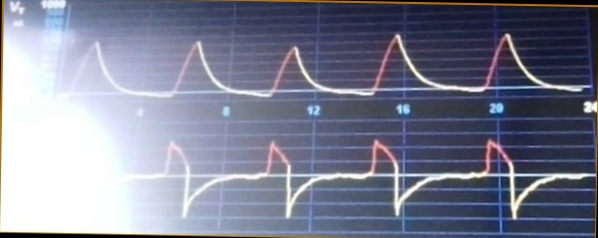Normal Flow: (124, 129, 596, 229)
Normal Volume: (63, 27, 586, 99)
